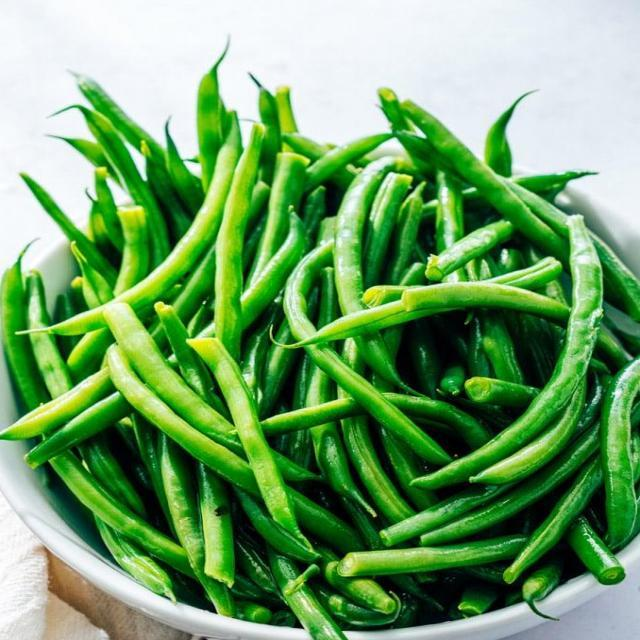Beans: (0, 36, 639, 639)
